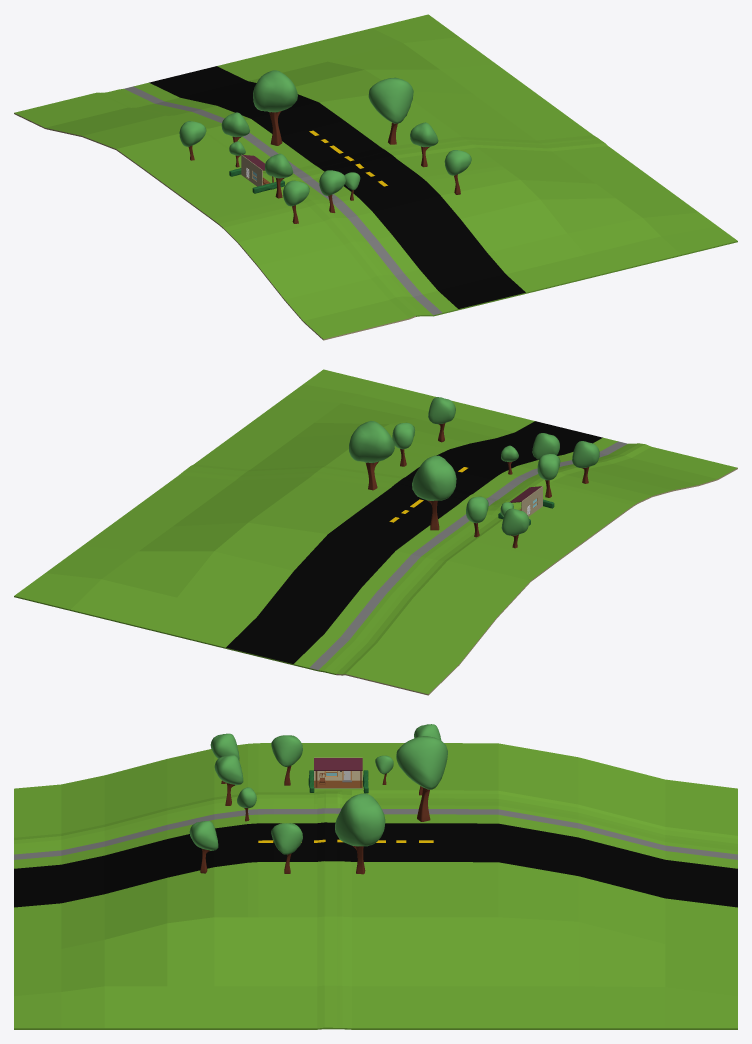
File: PorchScene.fbx
The picture shows the model from 3 angles, top to bottom: view 1: azimuth 30°, elevation 25°; view 2: azimuth 150°, elevation 25°; view 3: azimuth 270°, elevation 25°; orthographic projection. The views are drawn at different scales.
Visible parts, largest first — view 1: Cube, Cube.009, Cube.007, Cube.006, Cube.005, Cube.011, Cube.014, Cube.012, Cube.013, Cube.010; view 2: Cube, Cube.009, Cube.007, Cube.011, Cube.014, Cube.013, Cube.005, Cube.006, Cube.010, Cube.012; view 3: Cube, Cube.009, Cube.007, Cube.006, Cube.005, Cube.011, Cube.012, Cube.014.
Boxes of the visible parts, bbox=[...] form: Cube: bbox=[14, 14, 737, 340]; Cube.009: bbox=[253, 70, 297, 145]; Cube.007: bbox=[368, 77, 413, 144]; Cube.006: bbox=[410, 122, 438, 167]; Cube.005: bbox=[265, 153, 293, 198]; Cube.011: bbox=[444, 150, 471, 194]; Cube.014: bbox=[283, 180, 309, 223]; Cube.012: bbox=[319, 170, 345, 212]; Cube.013: bbox=[179, 121, 206, 160]; Cube.010: bbox=[221, 112, 249, 142]; Cube: bbox=[14, 369, 737, 695]; Cube.009: bbox=[412, 455, 456, 530]; Cube.007: bbox=[349, 421, 394, 490]; Cube.011: bbox=[428, 397, 455, 442]; Cube.014: bbox=[572, 441, 599, 483]; Cube.013: bbox=[501, 508, 529, 548]; Cube.005: bbox=[537, 454, 560, 497]; Cube.006: bbox=[392, 422, 414, 466]; Cube.010: bbox=[466, 496, 488, 537]; Cube.012: bbox=[532, 433, 559, 459]; Cube: bbox=[14, 743, 737, 1029]; Cube.009: bbox=[396, 736, 447, 821]; Cube.007: bbox=[335, 793, 385, 874]; Cube.006: bbox=[271, 823, 302, 873]; Cube.005: bbox=[271, 735, 302, 785]; Cube.011: bbox=[189, 821, 218, 873]; Cube.012: bbox=[214, 755, 243, 805]; Cube.014: bbox=[210, 733, 239, 783].
Bounding box in the file's own units: 66902 × 17078 × 86518.
